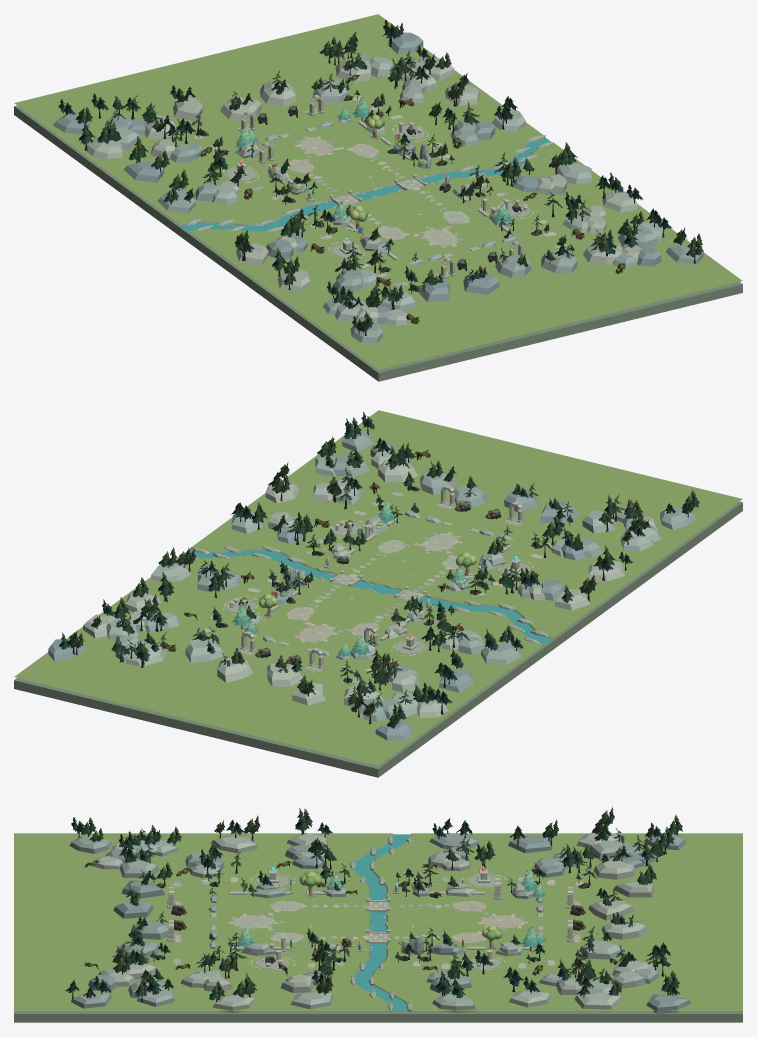
File: rift_arena.glb
3 renders of one model, top to bottom at view 1: azimuth 30°, elevation 25°; view 2: azimuth 150°, elevation 25°; view 3: azimuth 270°, elevation 25°, orthographic.
Parts seen in each view (by area): view 1: Terrain__Core__RiftGround, Terrain__North__RiftGround, Terrain__Core__RiftSoil, Source_woodland__West__LoLSource_forest_south.002, Source_woodland__East__LoLSource_forest_south.002, Cliff_strata__East__RiftRock_2, Cliff_strata__West__RiftRock_2, Cliff_strata__East__RiftRock_1, Cliff_strata__West__RiftRock_0, Cliff_strata__West__RiftRock_3, RiverSurface__Core__RiftWater, Cliff_strata__West__RiftRock_1 (+13 smaller); view 2: Terrain__Core__RiftGround, Terrain__North__RiftGround, Terrain__Core__RiftSoil, Source_woodland__East__LoLSource_forest_south.002, Source_woodland__West__LoLSource_forest_south.002, Cliff_strata__East__RiftRock_2, Cliff_strata__West__RiftRock_2, Cliff_strata__West__RiftRock_0, Cliff_strata__East__RiftRock_1, Cliff_strata__West__RiftRock_3, RiverSurface__Core__RiftWater, Cliff_strata__West__RiftRock_1 (+15 smaller); view 3: Terrain__Core__RiftGround, Terrain__North__RiftGround, Terrain__Core__RiftSoil, Source_woodland__West__LoLSource_forest_south.002, Source_woodland__East__LoLSource_forest_south.002, Cliff_strata__East__RiftRock_2, Cliff_strata__West__RiftRock_2, Cliff_strata__East__RiftRock_1, RiverSurface__Core__RiftWater, Cliff_strata__West__RiftRock_3, Cliff_strata__West__RiftRock_1, Cliff_strata__West__RiftRock_0 (+21 smaller).
Boxes of the visible parts, x1,y1,x2,y2 form: Terrain__Core__RiftGround: [189, 143, 742, 369]; Terrain__North__RiftGround: [14, 14, 542, 224]; Terrain__Core__RiftSoil: [14, 105, 742, 381]; Source_woodland__West__LoLSource_forest_south.002: [58, 85, 417, 335]; Source_woodland__East__LoLSource_forest_south.002: [319, 20, 703, 263]; Cliff_strata__East__RiftRock_2: [335, 58, 641, 264]; Cliff_strata__West__RiftRock_2: [84, 115, 407, 325]; Cliff_strata__East__RiftRock_1: [340, 56, 664, 241]; Cliff_strata__West__RiftRock_0: [104, 115, 383, 343]; Cliff_strata__West__RiftRock_3: [53, 113, 391, 323]; RiverSurface__Core__RiftWater: [180, 137, 551, 232]; Cliff_strata__West__RiftRock_1: [100, 127, 415, 321]; Terrain__Core__RiftGround: [189, 410, 742, 637]; Terrain__North__RiftGround: [14, 555, 543, 765]; Terrain__Core__RiftSoil: [14, 501, 742, 777]; Source_woodland__East__LoLSource_forest_south.002: [59, 412, 414, 667]; Source_woodland__West__LoLSource_forest_south.002: [301, 489, 699, 728]; Cliff_strata__East__RiftRock_2: [83, 450, 417, 665]; Cliff_strata__West__RiftRock_2: [344, 508, 658, 718]; Cliff_strata__West__RiftRock_0: [363, 507, 696, 721]; Cliff_strata__East__RiftRock_1: [106, 455, 361, 666]; Cliff_strata__West__RiftRock_3: [359, 514, 643, 740]; RiverSurface__Core__RiftWater: [184, 550, 552, 645]; Cliff_strata__West__RiftRock_1: [391, 510, 661, 716]; Terrain__Core__RiftGround: [14, 833, 392, 1010]; Terrain__North__RiftGround: [372, 833, 742, 1010]; Terrain__Core__RiftSoil: [14, 874, 742, 1022]; Source_woodland__West__LoLSource_forest_south.002: [71, 806, 682, 885]; Source_woodland__East__LoLSource_forest_south.002: [65, 939, 679, 1002]; Cliff_strata__East__RiftRock_2: [105, 960, 653, 1013]; Cliff_strata__West__RiftRock_2: [93, 832, 635, 879]; Cliff_strata__East__RiftRock_1: [137, 966, 658, 1012]; RiverSurface__Core__RiftWater: [354, 834, 411, 1011]; Cliff_strata__West__RiftRock_3: [106, 833, 686, 877]; Cliff_strata__West__RiftRock_1: [119, 840, 629, 878]; Cliff_strata__West__RiftRock_0: [69, 833, 655, 869].
Size of the model in its own units: 63.12 by 6.87 by 107.
37 materials, 7 textured.
